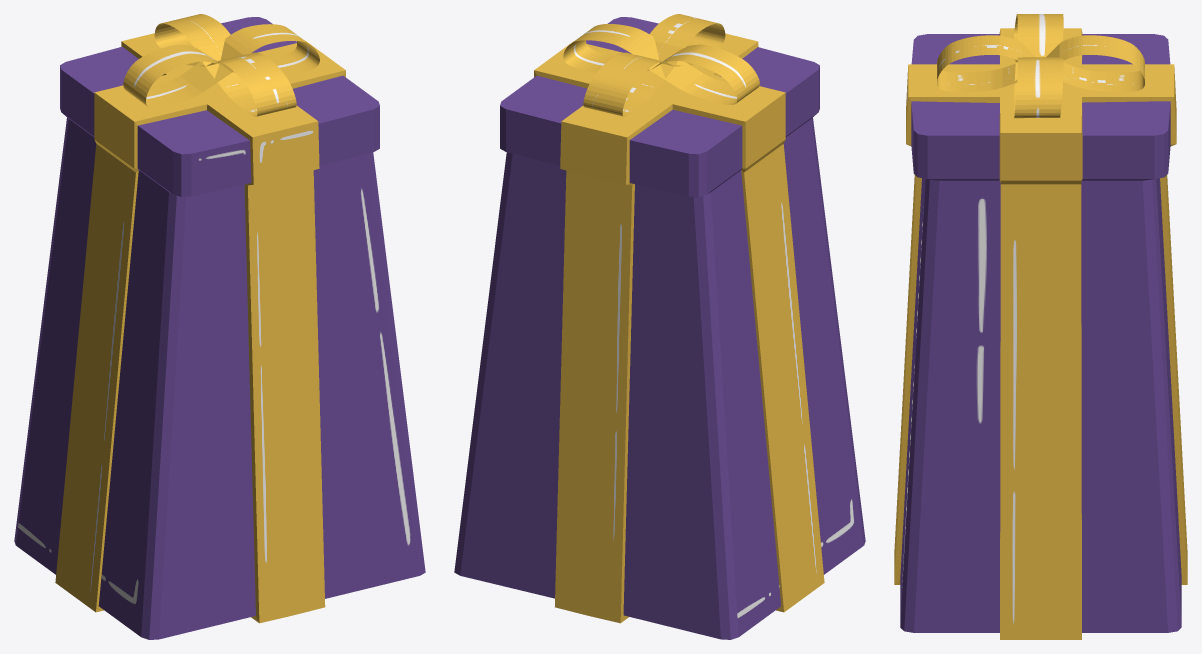
Rendered from Gift_6.glb.
3 views of the same model, side by side, from view 1: azimuth 30°, elevation 25°; view 2: azimuth 150°, elevation 25°; view 3: azimuth 270°, elevation 25° (orthographic).
Visible parts, largest first — view 1: XmasGifts_04; view 2: XmasGifts_04; view 3: XmasGifts_04.
Boxes of the visible parts, left/top/right/bottom form: XmasGifts_04: left=14, top=14, right=425, bottom=639; XmasGifts_04: left=454, top=14, right=865, bottom=639; XmasGifts_04: left=894, top=14, right=1187, bottom=639.
Bounding box in the file's own units: 2.61 × 4.48 × 2.27.
Materials: 2 (2 with a texture image).
